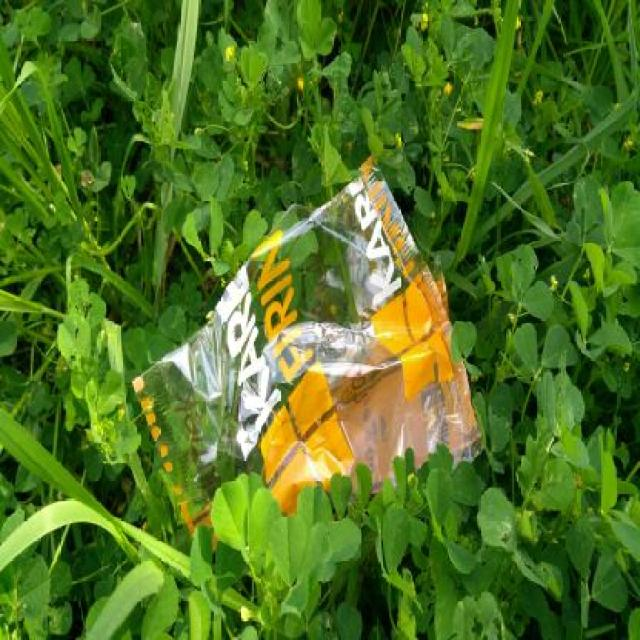plastic: (133, 151, 485, 557)
